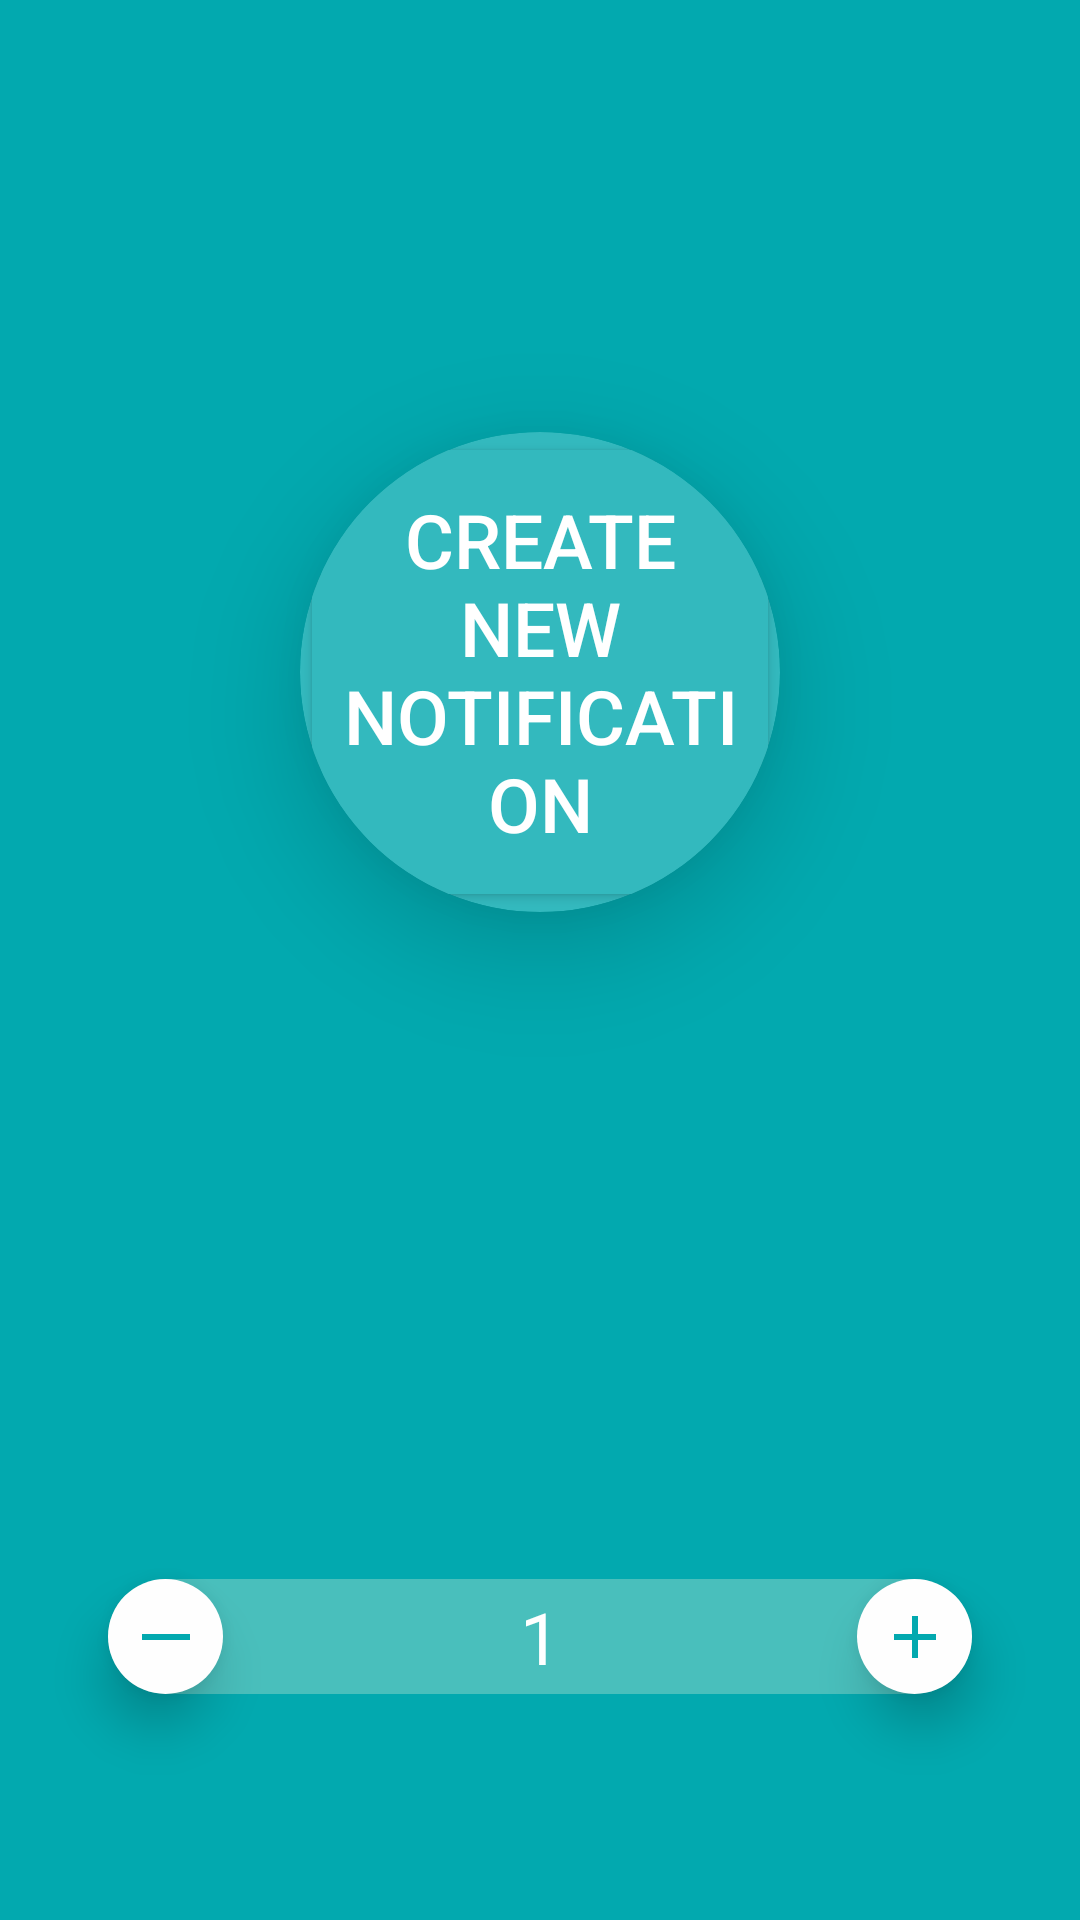

Screen size 1080*1920. Icon name, then its center in pixels as point (x, y):
add: point (914, 1636)
